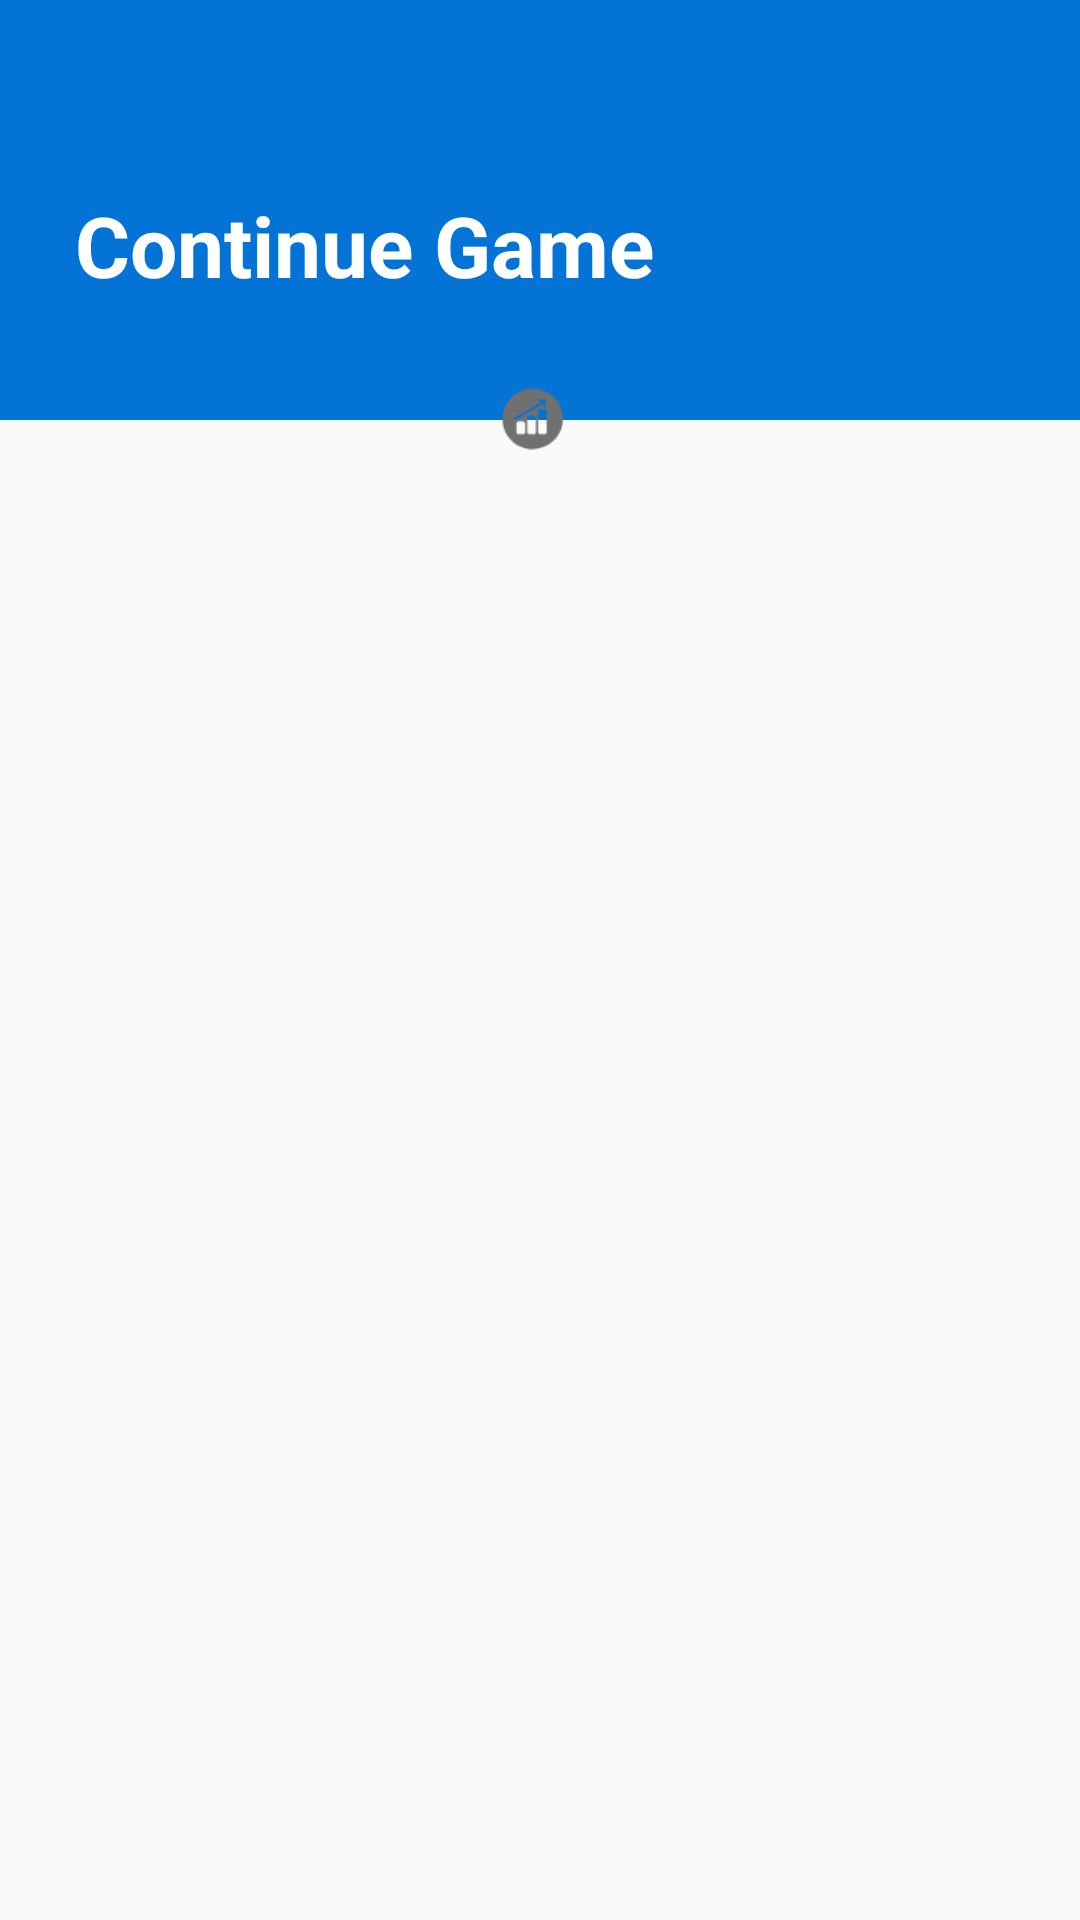

Point at icon controls on the screen. Image size 1080×1920, points as (x=x, y=y).
difficulty: (x=532, y=419)
